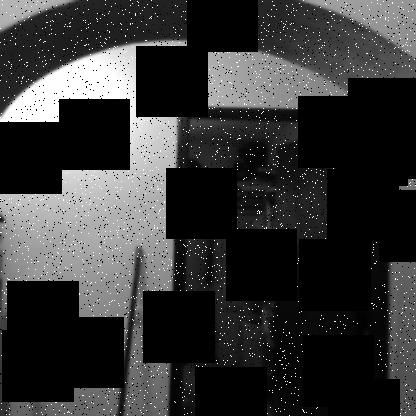Porte: (166, 104, 390, 415)
